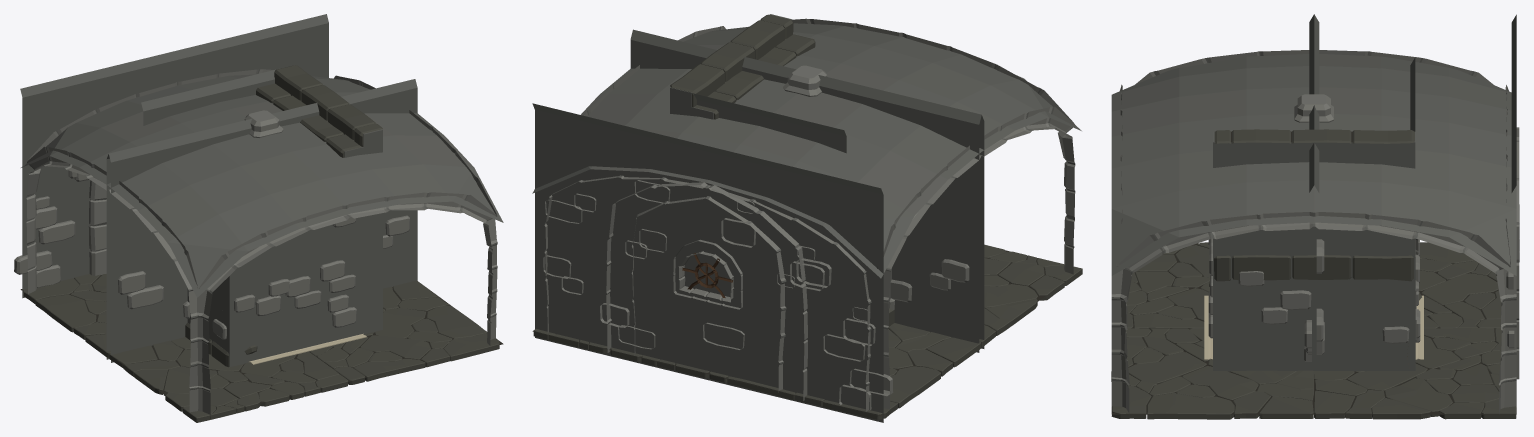
Rendered from castello.glb.
3 views of the same model, side by side, from view 1: azimuth 30°, elevation 25°; view 2: azimuth 150°, elevation 25°; view 3: azimuth 270°, elevation 25° (orthographic). The views are drawn at different scales.
Parts seen in each view (by area): view 1: Dungeon_Big, Stairs_High, Dungeon_Big_Passage, Dungeon_Big_Window, Dungeon_Big_to_Custom, Dungeon_Wall_Var2, Stairs_Platform, Stairs_Low, Pillar, Carpet_Green; view 2: Dungeon_Big, Dungeon_Big_to_Custom, Dungeon_Big_Wall, Dungeon_Big_Passage, Stairs_High, Dungeon_Big_Window, Dungeon_Wall_Window, Pillar; view 3: Dungeon_Big, Stairs_High, Stairs_Low, Dungeon_Big_Passage, Stairs_Platform, Dungeon_Big_to_Custom, Pillar, Carpet_Green, Dungeon_Big_Window, Dungeon_Wall_Var2.
Boxes of the visible parts, <box> form: Dungeon_Big: <box>20,69,503,422</box>; Stairs_High: <box>187,65,382,366</box>; Dungeon_Big_Passage: <box>106,79,417,362</box>; Dungeon_Big_Window: <box>21,18,328,298</box>; Dungeon_Big_to_Custom: <box>14,14,327,287</box>; Dungeon_Wall_Var2: <box>141,70,275,125</box>; Stairs_Platform: <box>212,260,355,339</box>; Stairs_Low: <box>185,294,356,367</box>; Pillar: <box>244,110,283,137</box>; Carpet_Green: <box>249,334,366,364</box>; Dungeon_Big: <box>532,18,1082,419</box>; Dungeon_Big_to_Custom: <box>534,108,893,422</box>; Dungeon_Big_Wall: <box>532,103,882,401</box>; Dungeon_Big_Passage: <box>630,29,984,352</box>; Stairs_High: <box>670,14,891,308</box>; Dungeon_Big_Window: <box>543,180,875,361</box>; Dungeon_Wall_Window: <box>692,93,846,153</box>; Pillar: <box>783,65,827,96</box>; Dungeon_Big: <box>1111,50,1516,419</box>; Stairs_High: <box>1209,129,1419,371</box>; Stairs_Low: <box>1208,250,1420,370</box>; Dungeon_Big_Passage: <box>1304,14,1324,361</box>; Stairs_Platform: <box>1208,240,1419,343</box>; Dungeon_Big_to_Custom: <box>1506,14,1519,379</box>; Pillar: <box>1294,94,1333,122</box>; Carpet_Green: <box>1204,295,1423,359</box>; Dungeon_Big_Window: <box>1507,19,1519,347</box>; Dungeon_Wall_Var2: <box>1410,57,1416,341</box>.
Bounding box in the file's own units: 8.19 × 5.58 × 8.07.
Materials: 2 (2 with a texture image).
